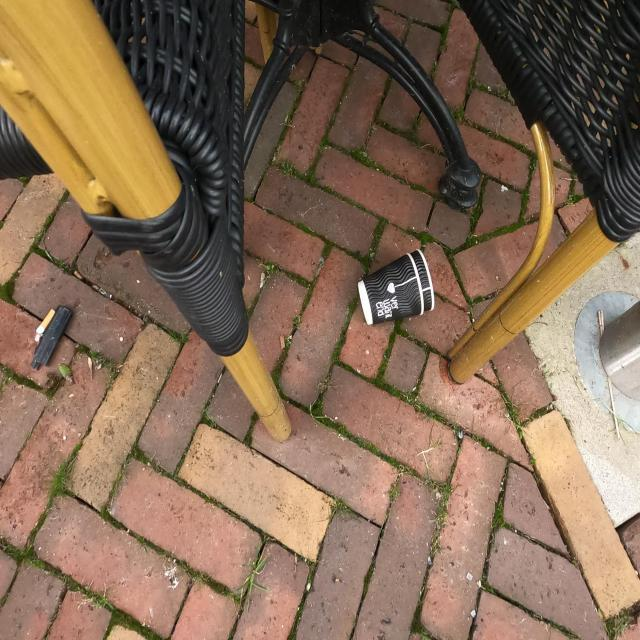Cup: (358, 248, 436, 327)
